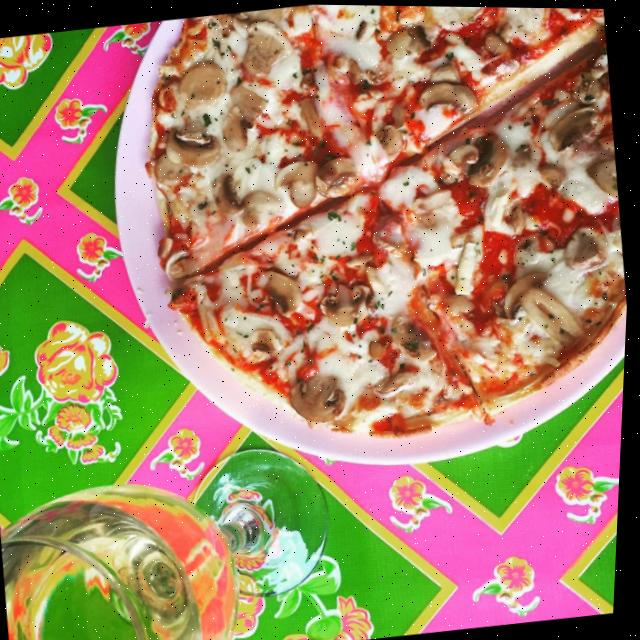mushrooms: (499, 264, 589, 352), (289, 368, 353, 426), (543, 102, 606, 152), (173, 60, 233, 111), (272, 155, 327, 208), (560, 216, 613, 271), (165, 122, 223, 169), (261, 259, 309, 315), (323, 277, 375, 327), (238, 25, 288, 75), (315, 149, 366, 198), (418, 76, 481, 115), (466, 129, 511, 181), (207, 163, 247, 218), (219, 101, 257, 152), (230, 78, 273, 123), (239, 190, 286, 228), (370, 118, 409, 162), (385, 20, 430, 58), (588, 154, 621, 203), (153, 146, 191, 181), (442, 140, 478, 175), (571, 66, 603, 104), (248, 324, 287, 354), (300, 94, 323, 136), (539, 160, 568, 186), (483, 29, 509, 54), (353, 16, 378, 40), (577, 7, 605, 27)
pizza: (122, 2, 640, 464)
